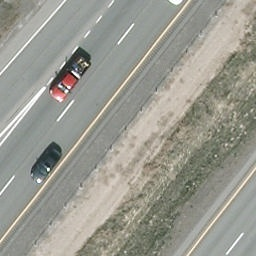car: (30, 145, 64, 185)
pickup: (48, 54, 93, 103)
